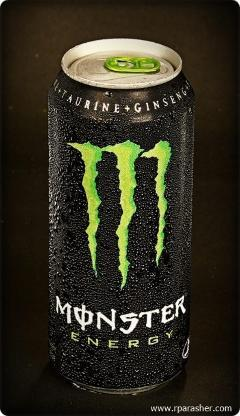Can: (46, 38, 196, 398)
